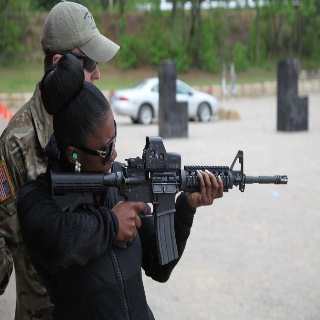rifle: (48, 134, 290, 267)
